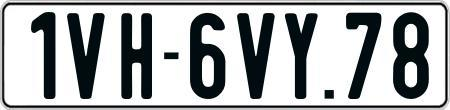1: (29, 12, 54, 103)
6: (190, 13, 226, 103)
7: (345, 10, 384, 102)
8: (391, 9, 431, 97)
H: (121, 13, 154, 100)
V: (235, 11, 277, 98), (65, 11, 104, 102)
Y: (284, 11, 322, 102)
